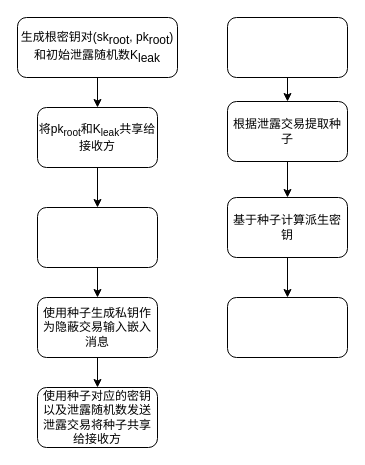
Some shapes in this 365 by 465 pixel diagram are drawn without their labels. The shapes that lost their labels are listed below. From the top down, each one's box as (x1, y1, x2, y2) in pixels, then its label:
(226, 16, 348, 78): 根据pk root 筛选泄露交易
(36, 206, 158, 268): 使用sk root 派生密钥作为种子
(226, 296, 348, 358): 根据派生密钥筛选隐蔽交易并提取秘密消息
